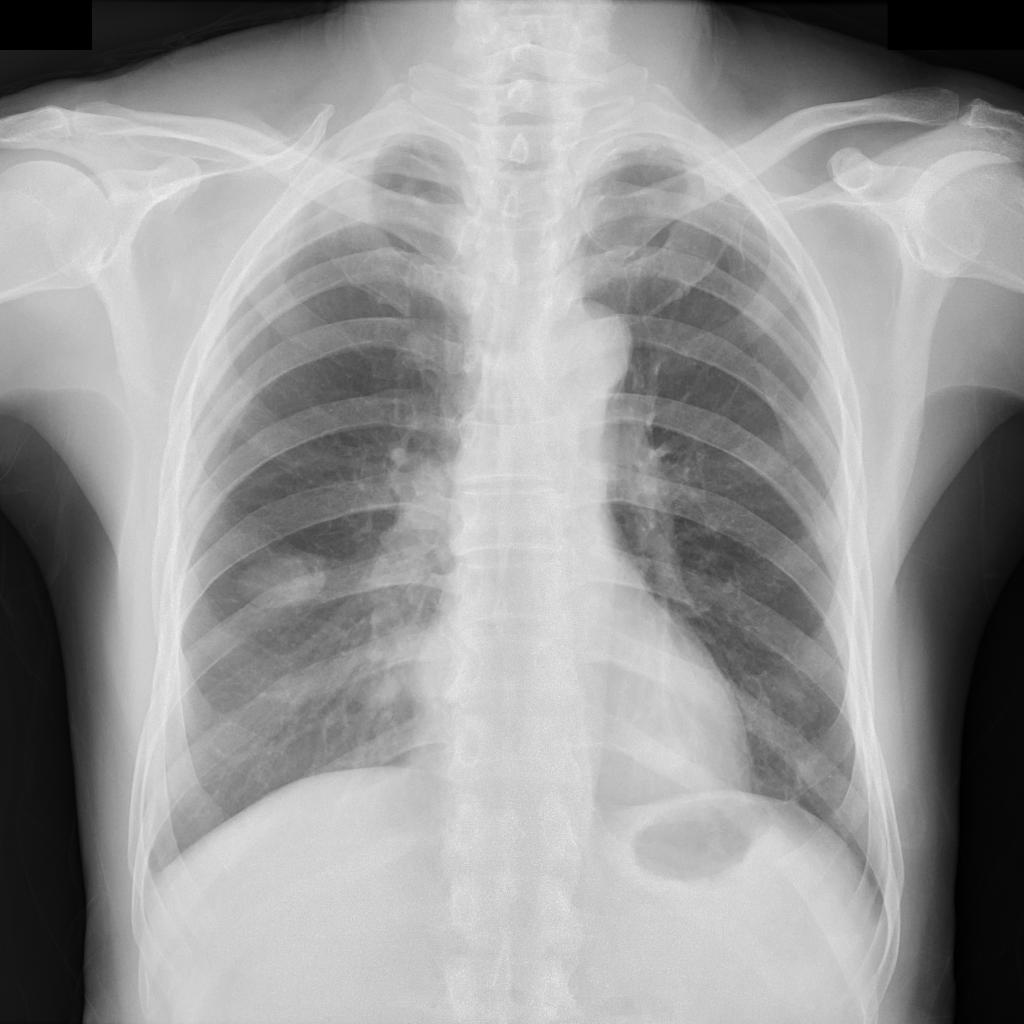Nodule: (240, 552, 326, 608), (352, 671, 400, 707)
